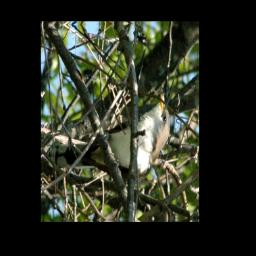Cuckoo: (48, 86, 171, 186)
